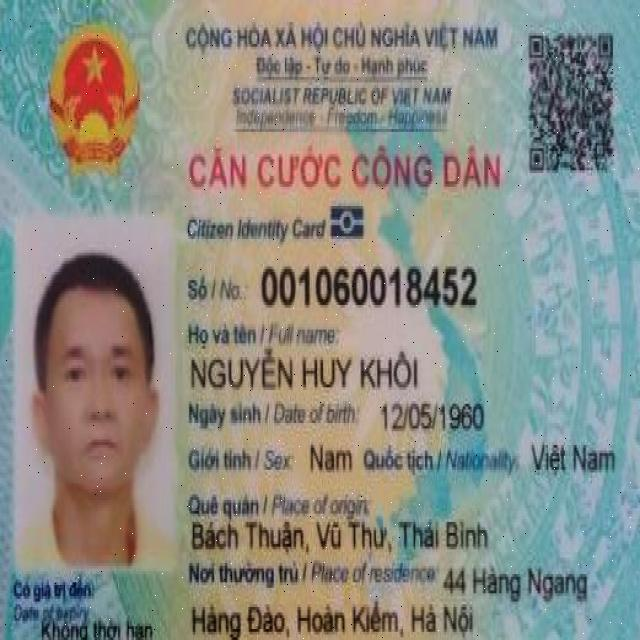current_place: (190, 598, 475, 640), (442, 562, 590, 600)
dob: (382, 401, 488, 434)
expire_date: (42, 614, 156, 640)
gender: (309, 442, 354, 474)
id: (259, 260, 480, 308)
name: (189, 348, 420, 393)
nationality: (532, 439, 617, 475)
origin_place: (191, 517, 493, 556)
